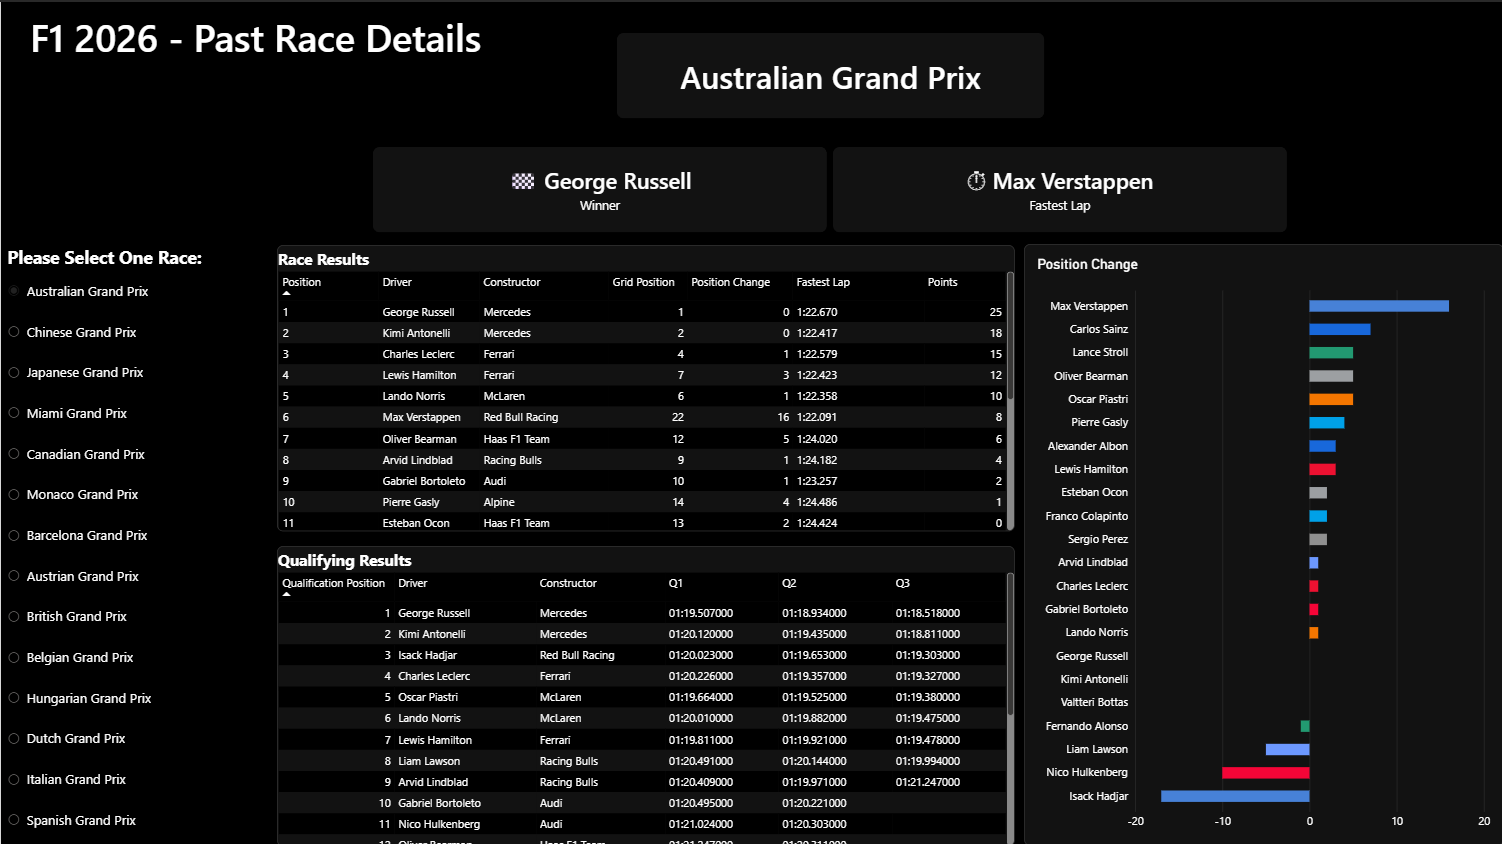

The dashboard page shown, as its layout file describes it:
{"tool":"powerbi","page":{"name":"Past Races","canvas":[1920,1080],"ordinal":2},"visuals":[{"type":"textbox","box":[37.2,12,876.3,83.1],"z":0},{"type":"slicer","fields":{"Values":["races.RaceName"]},"box":[0,310.5,335.5,769.8],"z":1000},{"type":"cardVisual","fields":{"Data":["Min(races.RaceName)"]},"box":[786.8,39.9,546.1,109.8],"z":2000},{"type":"cardVisual","fields":{"Data":["race_results.Winner","master_quali_df.Fastest Lap"]},"box":[475.3,184.7,1169.2,109.8],"z":4000},{"type":"tableEx","title":"Race Results","fields":{"Values":["race_results.Display Position","race_results.Driver","race_results.Constructor","Min(master_quali_df.Qualification Position)","race_results.Position Change","race_results.FastestLapTime","Sum(race_results.Points)"]},"box":[353.2,310.1,943.1,366],"z":5000},{"type":"tableEx","title":"Qualifying Results","fields":{"Values":["Sum(master_quali_df.Qualification Position)","master_quali_df.FullName","race_results.Constructor","master_quali_df.Q1","master_quali_df.Q2","master_quali_df.Q3"]},"box":[352.7,695.5,943.5,383.6],"z":6000},{"type":"clusteredBarChart","title":"Position Change ","fields":{"Category":["race_results.Driver"],"Y":["race_results.Position Change"]},"box":[1307.2,309.7,612.8,769.3],"z":7000}]}

Visuals, with their boxes in screenshot pixels (x1, y1, x2, y2), scaled from the page's 1920x1080 canvas onto the 1502x844 screenshot:
textbox: [29, 9, 715, 74]
slicer - races.RaceName: [0, 243, 262, 843]
cardVisual - Min(races.RaceName): [616, 31, 1043, 117]
cardVisual - race_results.Winner x master_quali_df.Fastest Lap: [372, 144, 1286, 230]
"Race Results" tableEx: [276, 242, 1014, 528]
"Qualifying Results" tableEx: [276, 544, 1014, 843]
"Position Change " clusteredBarChart: [1023, 242, 1501, 843]
